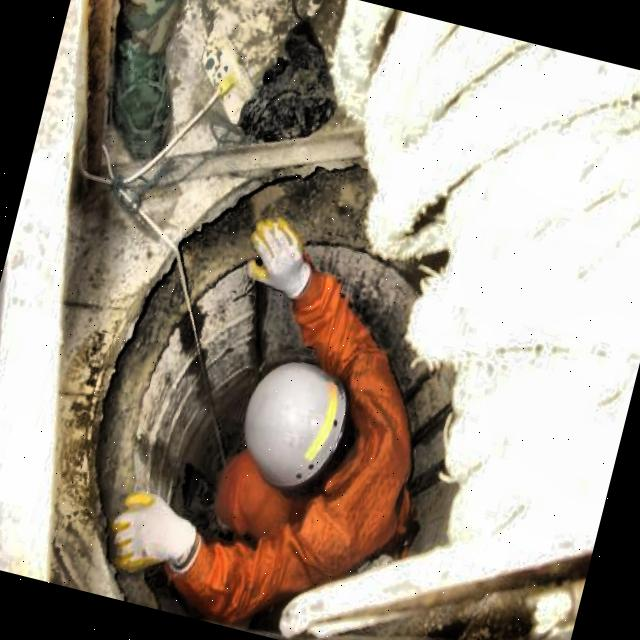helmet: (218, 349, 358, 504)
